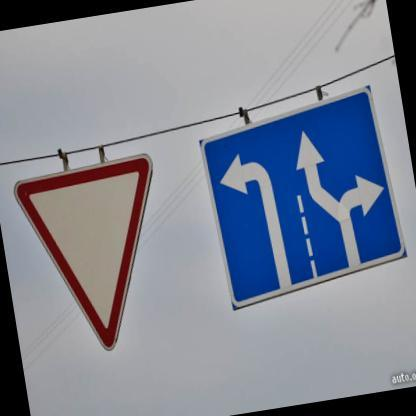road_sign: (199, 83, 408, 312), (14, 154, 154, 352)
